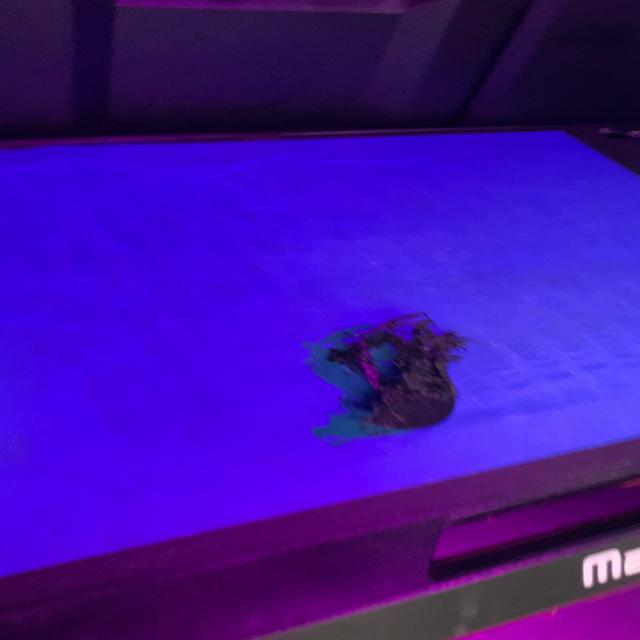spaghetti: (302, 310, 473, 438)
